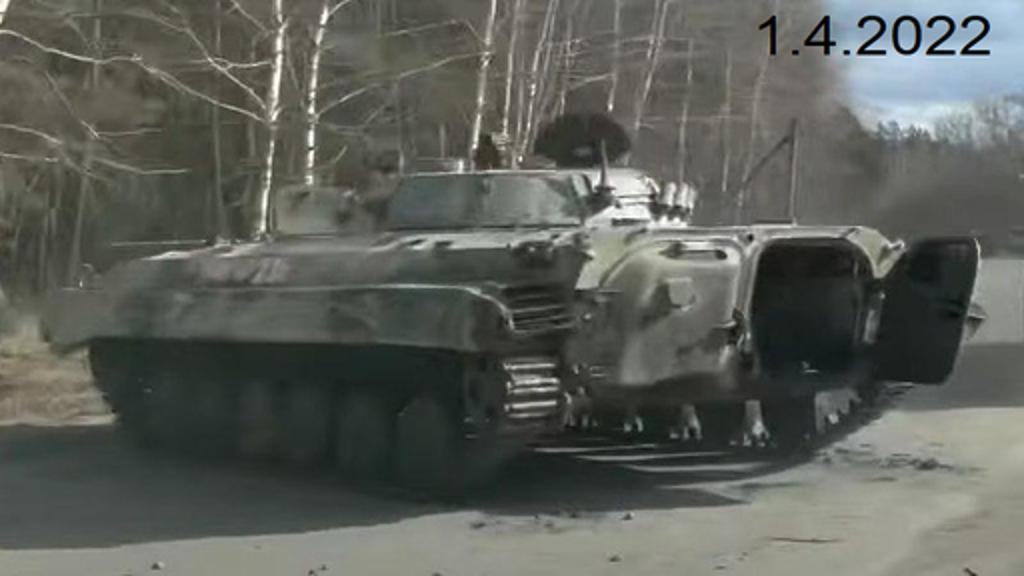APC-IFV: (38, 102, 984, 500)
